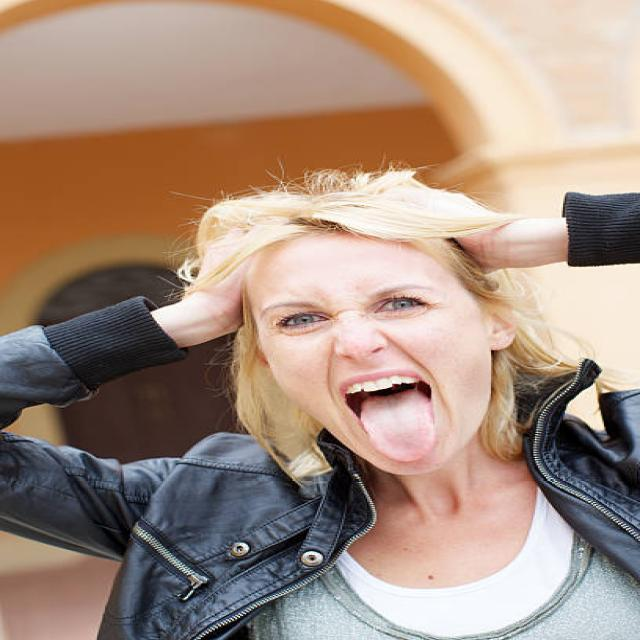tongue: (362, 395, 444, 465)
